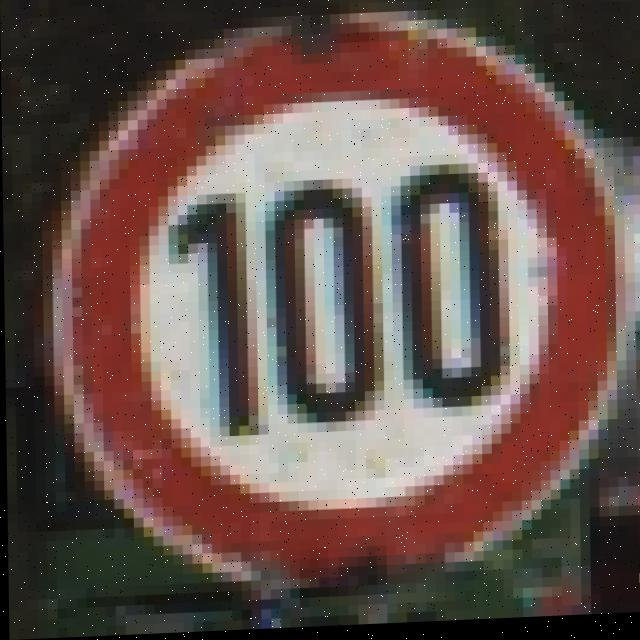speed_limit_100: (56, 25, 618, 593)
